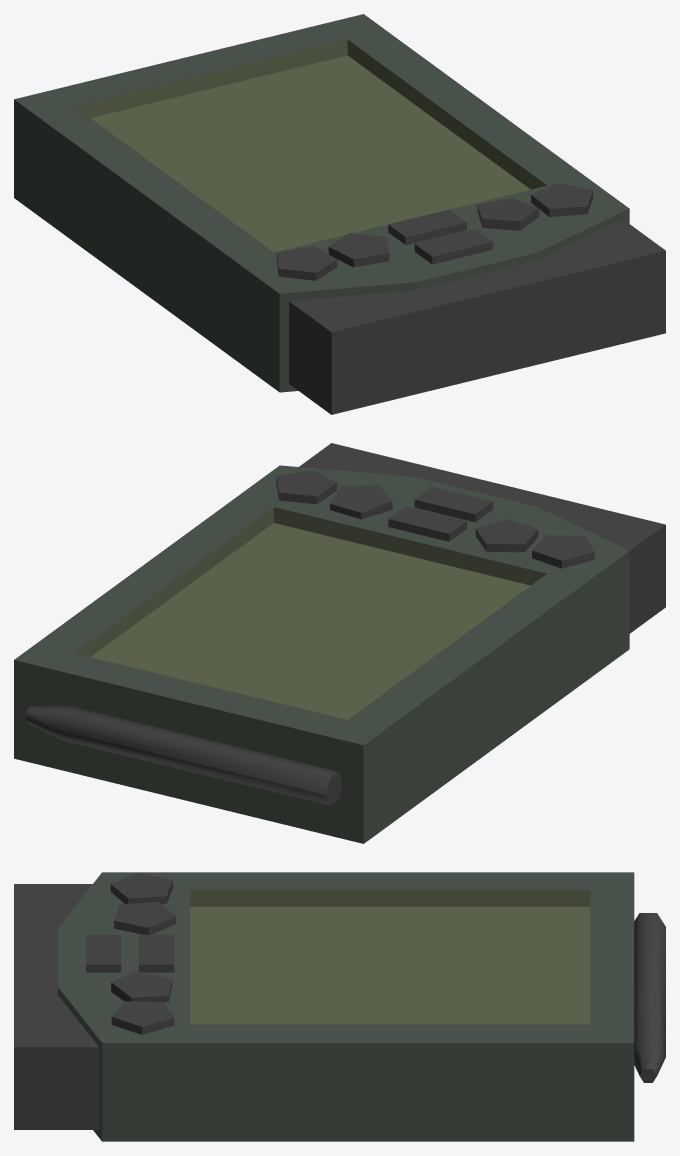
The model's file is PinePilot_LOD0.fbx.
3 views of the same model, one above another, from view 1: azimuth 30°, elevation 25°; view 2: azimuth 150°, elevation 25°; view 3: azimuth 270°, elevation 25° (orthographic).
Visible parts, largest first — view 1: Cube; view 2: Cube; view 3: Cube.
Boxes of the visible parts, x1,y1,x2,y2 form: Cube: (14, 14, 665, 414); Cube: (14, 443, 665, 843); Cube: (14, 872, 665, 1141).
Bounding box in the file's own units: 0.3437 × 0.1016 × 0.5544.
